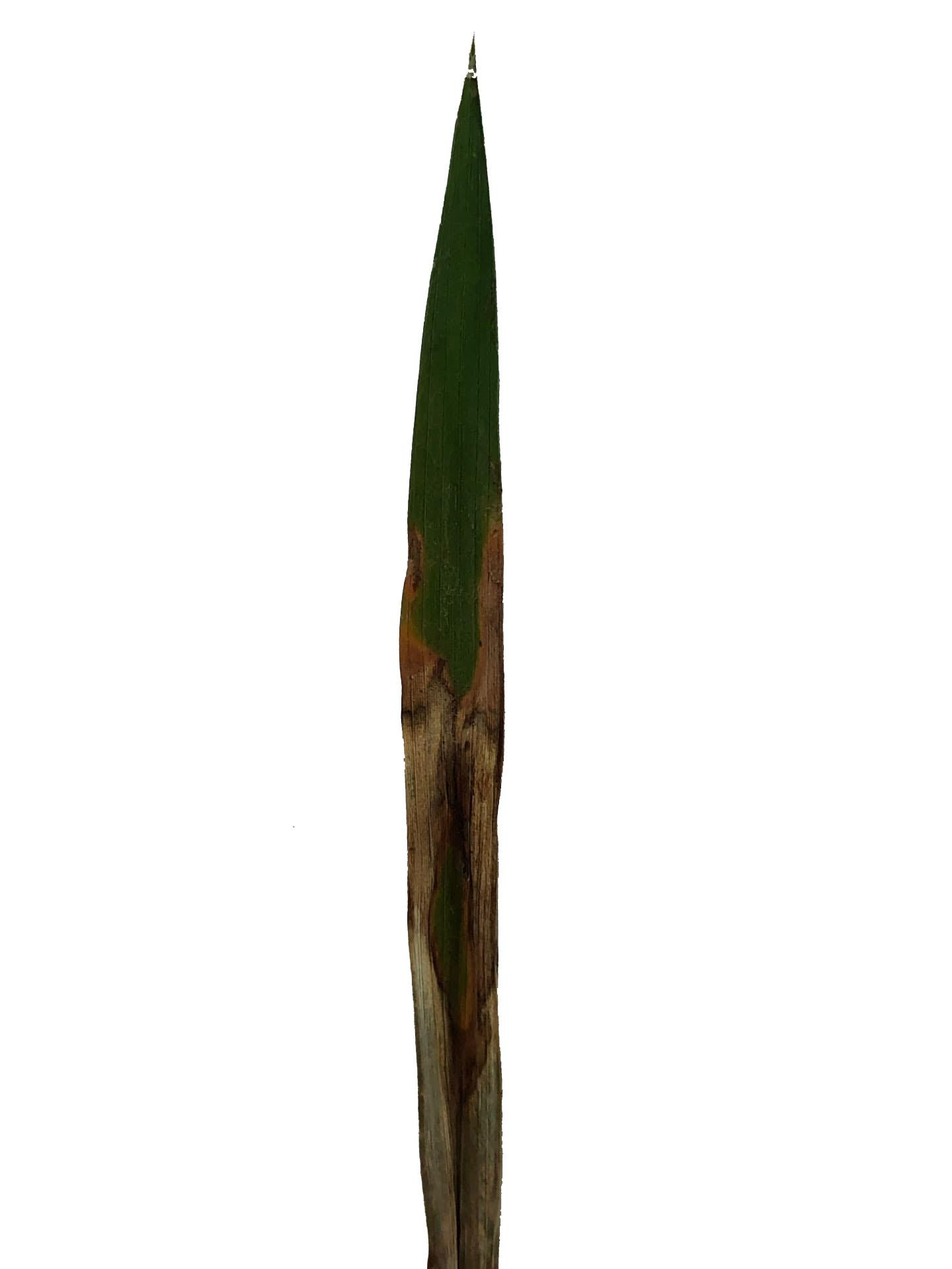Blight: (410, 568, 499, 1239)
